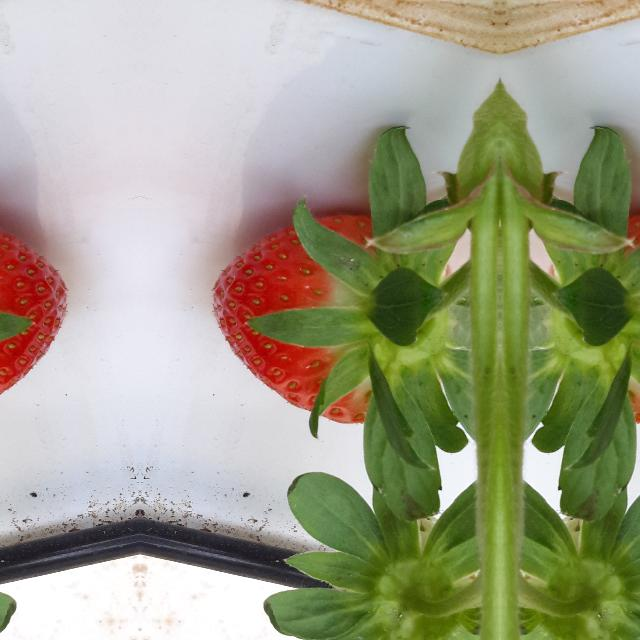Health_100: (212, 211, 374, 423), (0, 211, 68, 423)
